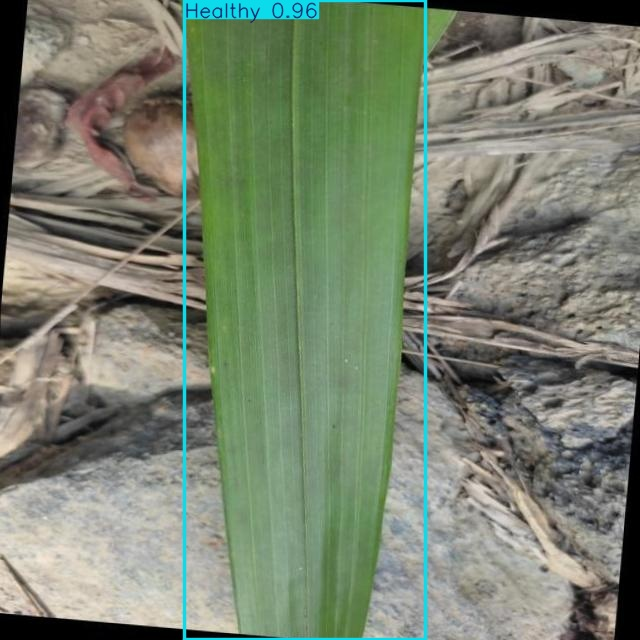Healthy: (185, 0, 425, 640)
